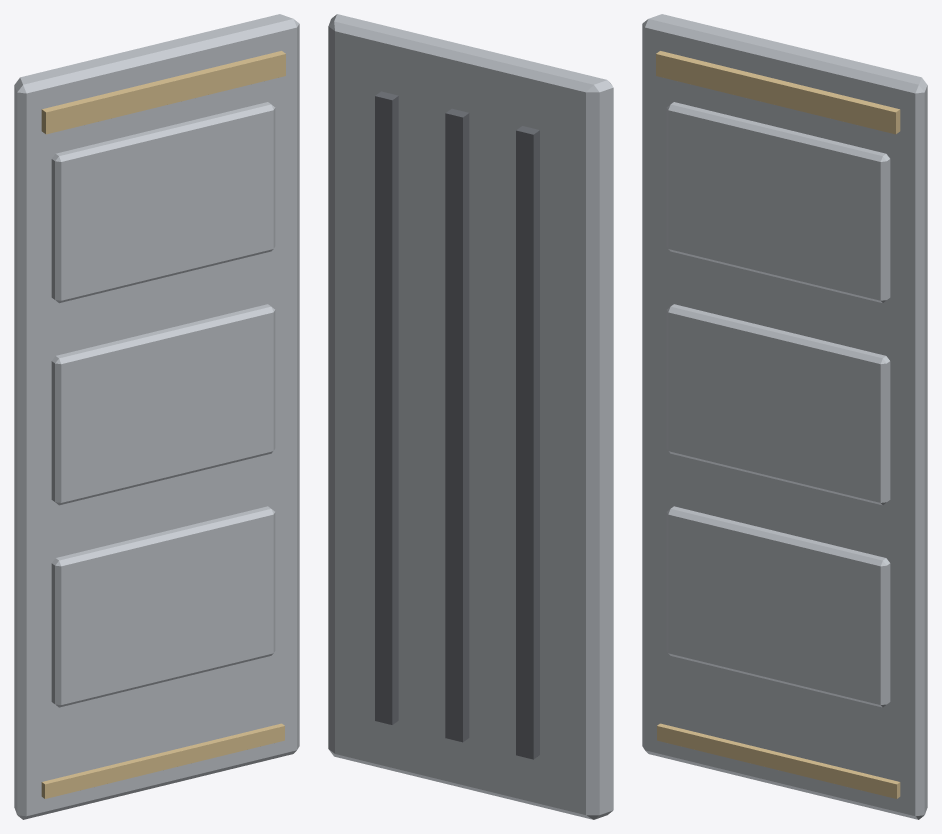
File: bastion.shell_facet_lower.glb
The picture shows the model from 3 angles, left to right: view 1: azimuth 30°, elevation 25°; view 2: azimuth 150°, elevation 25°; view 3: azimuth 330°, elevation 25°; orthographic projection.
Size of the model in its own units: 3.21 by 8 by 0.5375.
